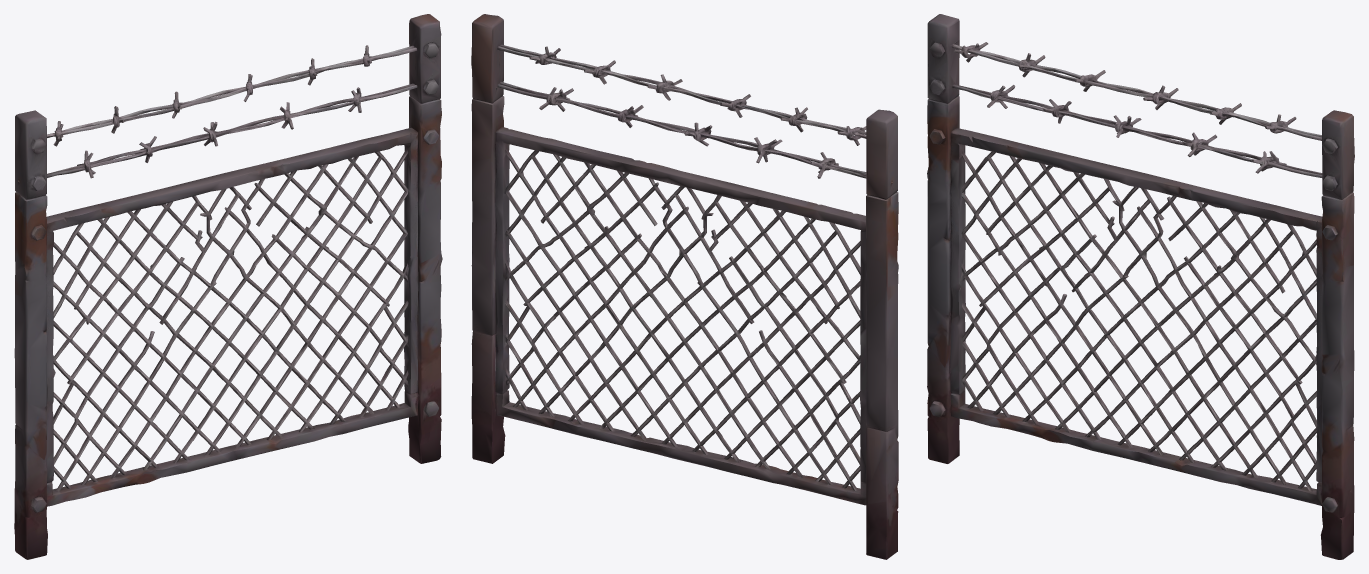
The model's file is fence_wire_setka_idle.glb.
3 views of the same model, side by side, from view 1: azimuth 30°, elevation 25°; view 2: azimuth 150°, elevation 25°; view 3: azimuth 330°, elevation 25° (orthographic).
Parts seen in each view (by area): view 1: tripo_node_982bd143-0b36-4040-ba40-eadfd4ce25c6; view 2: tripo_node_982bd143-0b36-4040-ba40-eadfd4ce25c6; view 3: tripo_node_982bd143-0b36-4040-ba40-eadfd4ce25c6.
Part boxes in pixels (left/top/right/bottom): tripo_node_982bd143-0b36-4040-ba40-eadfd4ce25c6: left=14, top=14, right=442, bottom=559; tripo_node_982bd143-0b36-4040-ba40-eadfd4ce25c6: left=471, top=14, right=898, bottom=559; tripo_node_982bd143-0b36-4040-ba40-eadfd4ce25c6: left=927, top=14, right=1354, bottom=559.
Size of the model in its own units: 1.49 by 1.5 by 0.1102.
1 material, 1 textured.
